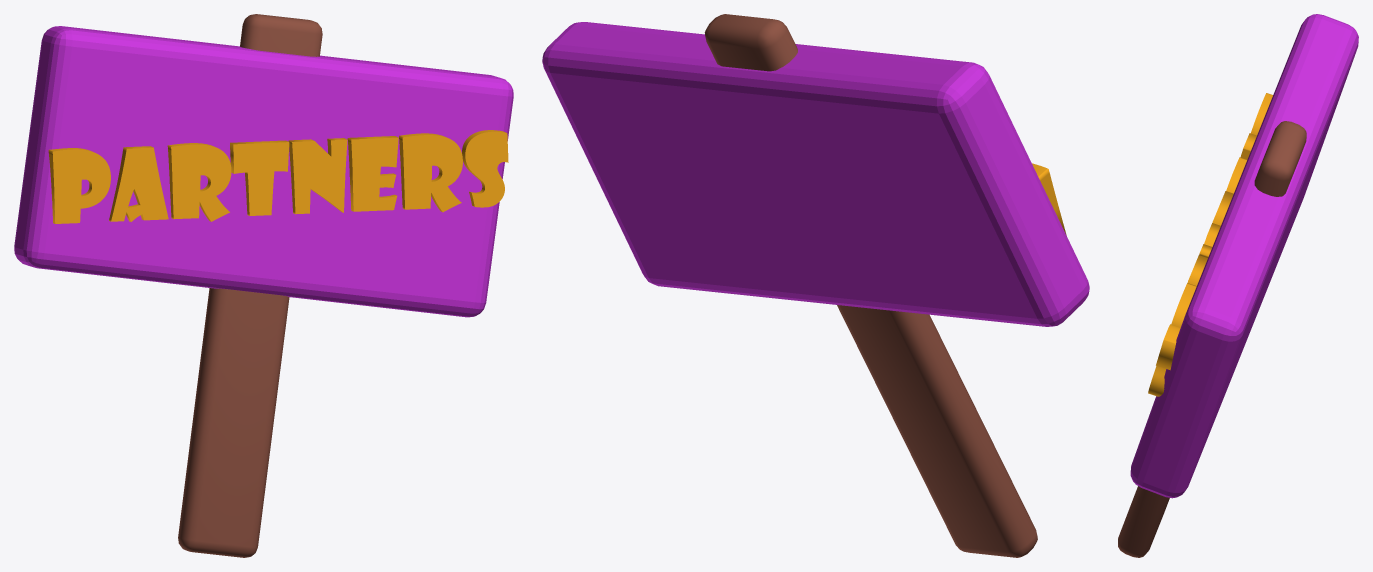
Rendered from menu_sign4.glb.
3 views of the same model, side by side, from view 1: azimuth 30°, elevation 25°; view 2: azimuth 150°, elevation 25°; view 3: azimuth 270°, elevation 25° (orthographic). The views are drawn at different scales.
Visible parts, largest first — view 1: Sign.005, Text.006, Sign stick.005; view 2: Sign.005, Sign stick.005; view 3: Sign.005, Sign stick.005, Text.006.
Part boxes in pixels (<box>): Sign.005: <box>14,26,513,317</box>; Text.006: <box>48,130,508,223</box>; Sign stick.005: <box>178,14,322,557</box>; Sign.005: <box>542,22,1089,326</box>; Sign stick.005: <box>704,14,1037,557</box>; Sign.005: <box>1130,14,1358,498</box>; Sign stick.005: <box>1118,121,1306,557</box>; Text.006: <box>1148,93,1272,396</box>.
Bounding box in the file's own units: 1.53 × 1.54 × 0.6758.
